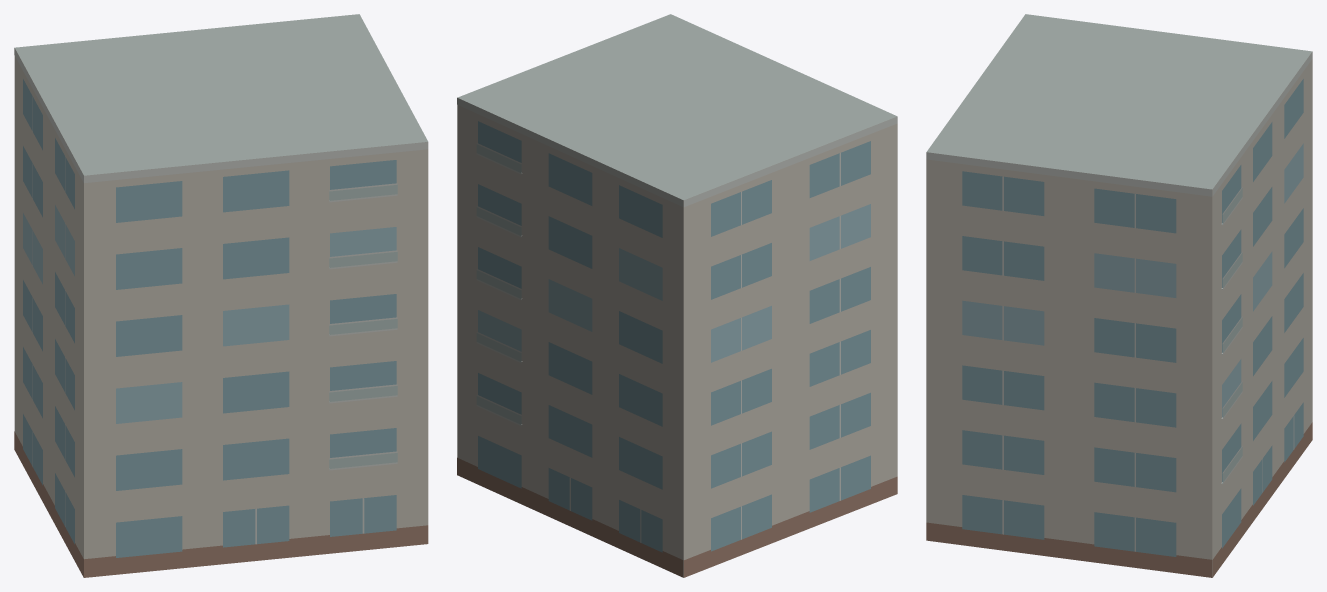
File: survey-upis-32874826.glb
3 renders of one model, left to right at view 1: azimuth 30°, elevation 25°; view 2: azimuth 150°, elevation 25°; view 3: azimuth 270°, elevation 25°, orthographic. The views are drawn at different scales.
Visible parts, largest first — view 1: survey-upis-32874826.tmp; view 2: survey-upis-32874826.tmp; view 3: survey-upis-32874826.tmp.
Part boxes in pixels (left/top/right/bottom): survey-upis-32874826.tmp: left=14, top=14, right=428, bottom=577; survey-upis-32874826.tmp: left=457, top=14, right=897, bottom=577; survey-upis-32874826.tmp: left=926, top=14, right=1312, bottom=577.
Bounding box in the file's own units: 12.7 × 13.1 × 11.82.
